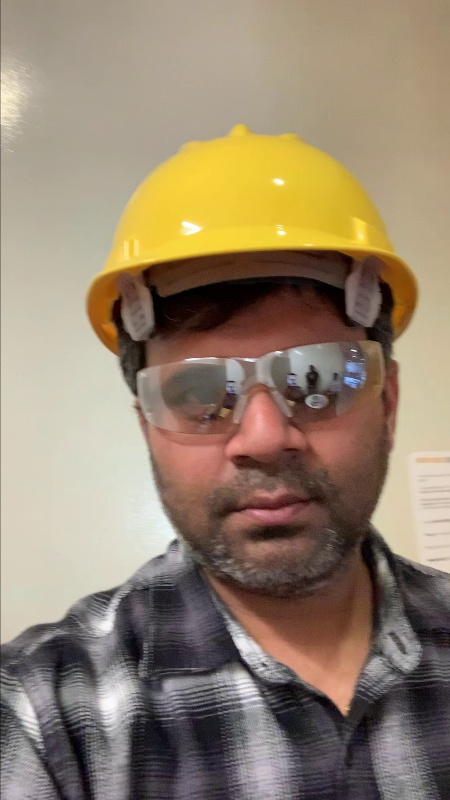glasses: (145, 344, 389, 420)
helmet: (93, 119, 402, 269)
